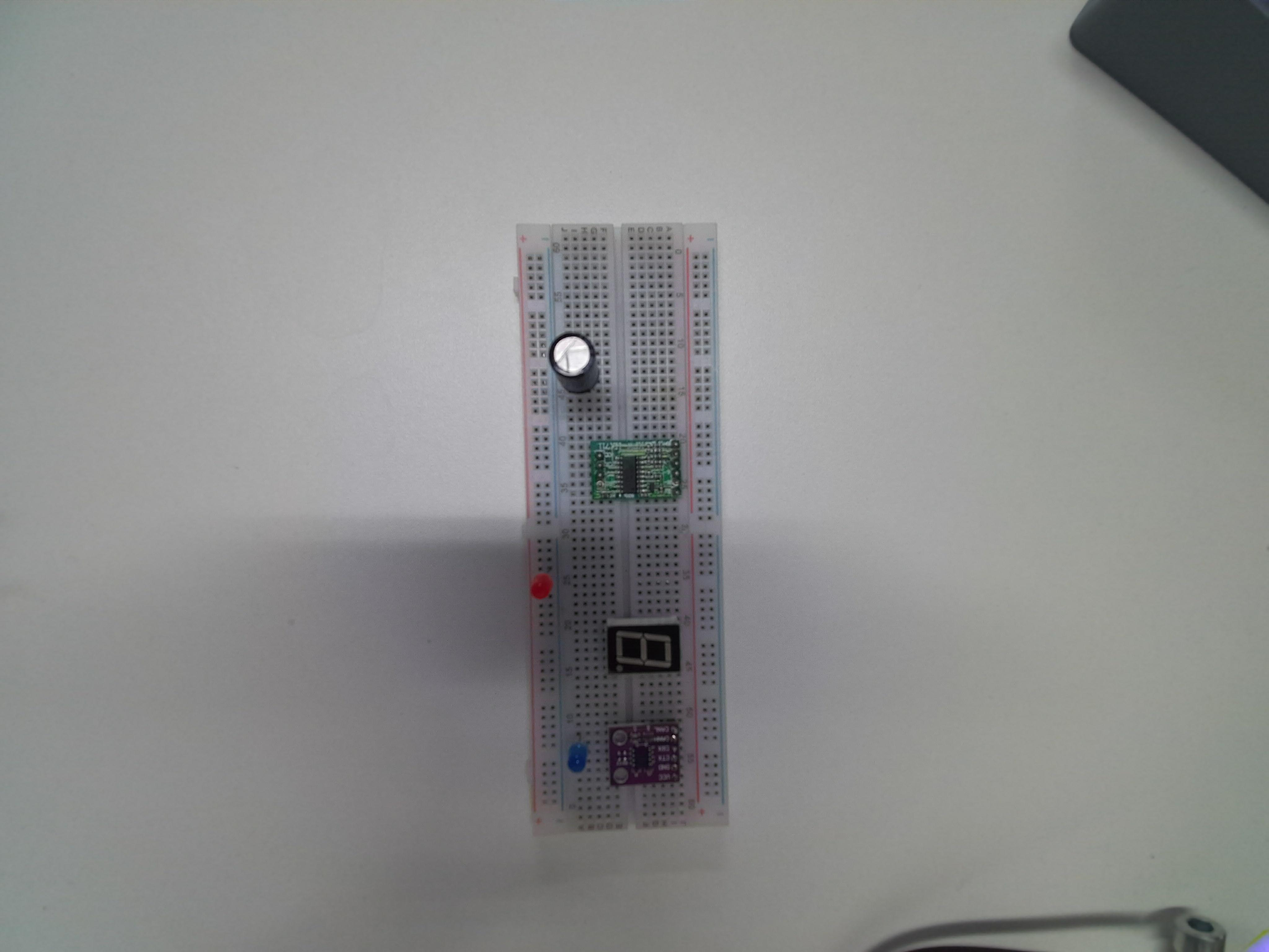base: (511, 217, 727, 841)
blue-led: (561, 736, 592, 775)
capacitor: (547, 329, 603, 400)
digit-board: (602, 615, 686, 676)
green-board: (586, 436, 686, 504)
purple-board: (604, 721, 688, 788)
red-led: (528, 571, 557, 605)
